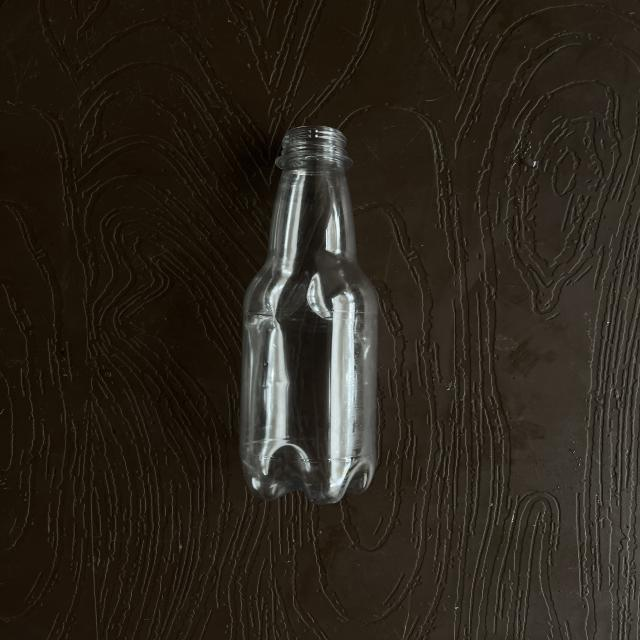PET_ClearBottle: (232, 124, 389, 494)
